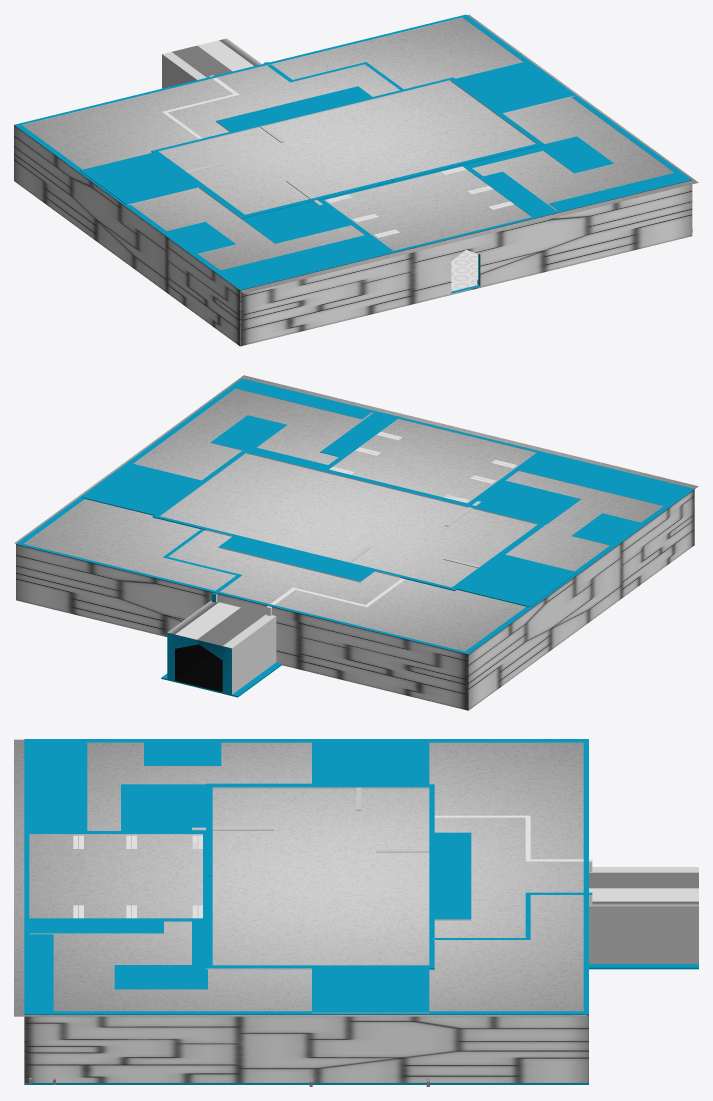
File: SM_Level_1.1.1.fbx
The picture shows the model from 3 angles, top to bottom: view 1: azimuth 30°, elevation 25°; view 2: azimuth 150°, elevation 25°; view 3: azimuth 270°, elevation 25°; orthographic projection. The views are drawn at different scales.
Parts seen in each view (by area): view 1: pPlane1, polySurface77, polySurface128, polySurface78; view 2: pPlane1, polySurface77, polySurface128, polySurface78; view 3: pPlane1, polySurface77, polySurface128, polySurface78, polySurface131, polySurface130.
Boxes of the visible parts, x1,y1,x2,y2 form: pPlane1: (22, 14, 698, 293); polySurface77: (14, 14, 692, 346); polySurface128: (80, 61, 574, 218); polySurface78: (220, 136, 614, 287); pPlane1: (14, 375, 698, 651); polySurface77: (16, 378, 694, 710); polySurface128: (82, 449, 577, 606); polySurface78: (210, 412, 686, 523); pPlane1: (14, 739, 587, 1016); polySurface77: (24, 739, 698, 1084); polySurface128: (206, 739, 471, 1013); polySurface78: (29, 742, 207, 989); polySurface131: (434, 815, 592, 871); polySurface130: (435, 892, 592, 939).
Size of the model in its own units: 130 by 23.15 by 134.
